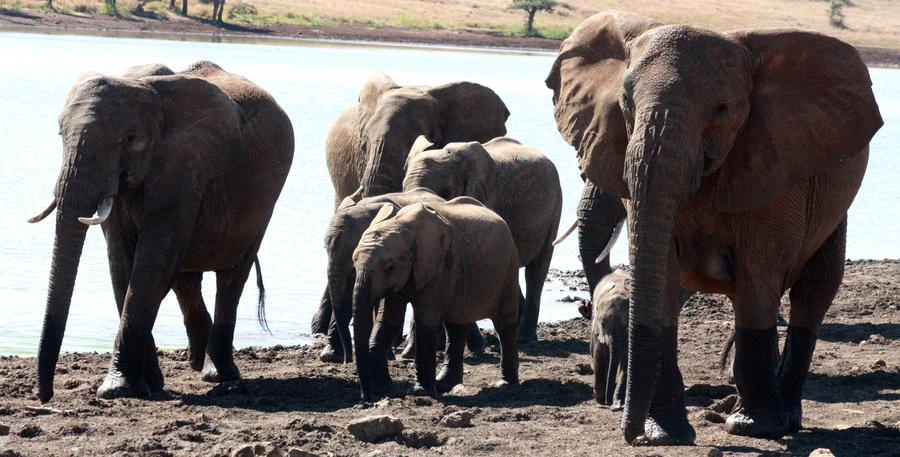elephant: (575, 39, 785, 234), (39, 60, 178, 236)
